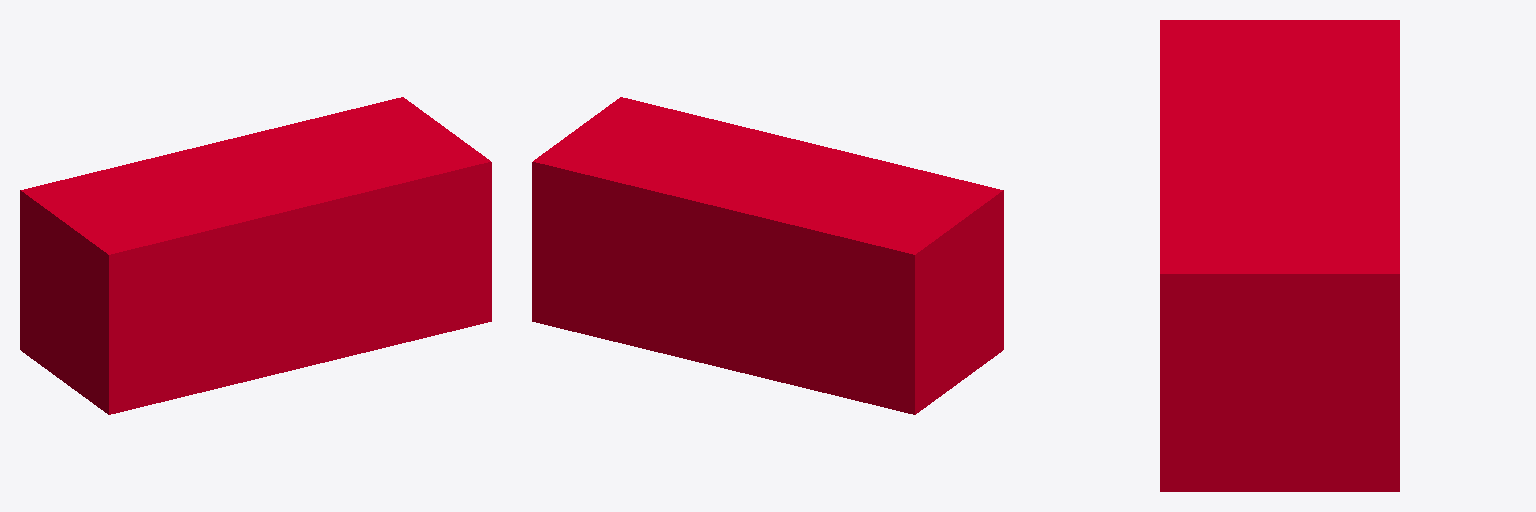
robot.urdf — block.urdf:
<?xml version="1.0" ?>
<robot name="block.urdf">

  <link name="block">
    <contact>
    	<friction_anchor/>
    	   <lateral_friction value="1.0"/>
    </contact>
    <inertial>
      <origin rpy="0 0 0" xyz="0 0 0"/>
       <mass value=".1"/>
       <inertia ixx="1" ixy="0" ixz="0" iyy="1" iyz="0" izz="1"/>
    </inertial>
    <visual>
      <origin rpy="0 0 0" xyz="0 0 0"/>
      <geometry>
				<mesh filename="block.obj" scale="1.0 1.0 1.0"/>
      </geometry>
       <material name="red">
        <color rgba="0.9 0 0.2 1.0"/>
      </material>
    </visual>
    <collision>
      <origin rpy="0 0 0" xyz="0 0 0"/>
      <geometry>
				<mesh filename="block.obj" scale="1.0 1.0 1.0"/>
      </geometry>
    </collision>
  </link>


</robot>

--- Render facts (derived) ---
Views: 3 orthographic renders of the robot side by side, from view 1: azimuth 30°, elevation 25°; view 2: azimuth 150°, elevation 25°; view 3: azimuth 270°, elevation 25°.
Model block.urdf with 1 links and 0 joints (none), rooted at block, posed all joints at 0.
Links seen in each view (by area): view 1: block; view 2: block; view 3: block.
Boxes of the visible links, box(x1,y1,x2,y2) form: block: box(20, 97, 491, 414); block: box(532, 97, 1003, 414); block: box(1160, 20, 1399, 491).
Bounding box of the posed robot: 0.15 × 0.06 × 0.06 m (x, y, z).
Meshes: 1 distinct files referenced, 1 mesh visuals loaded (1 OBJ).